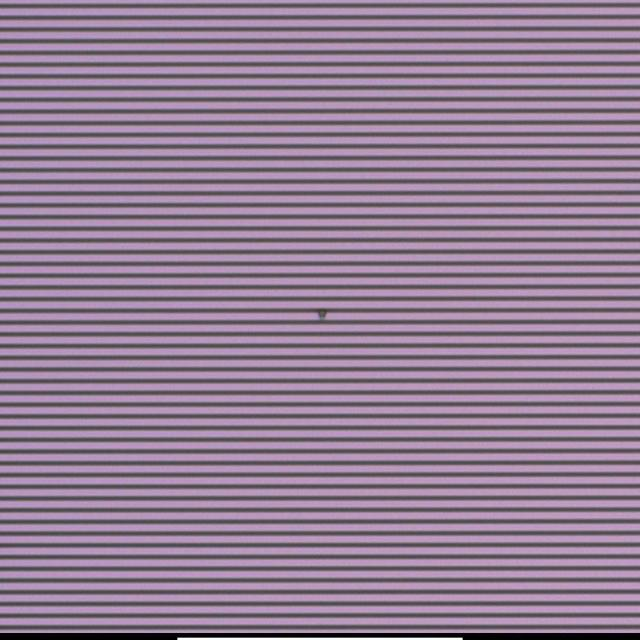03_intrusion: (311, 304, 331, 329)
